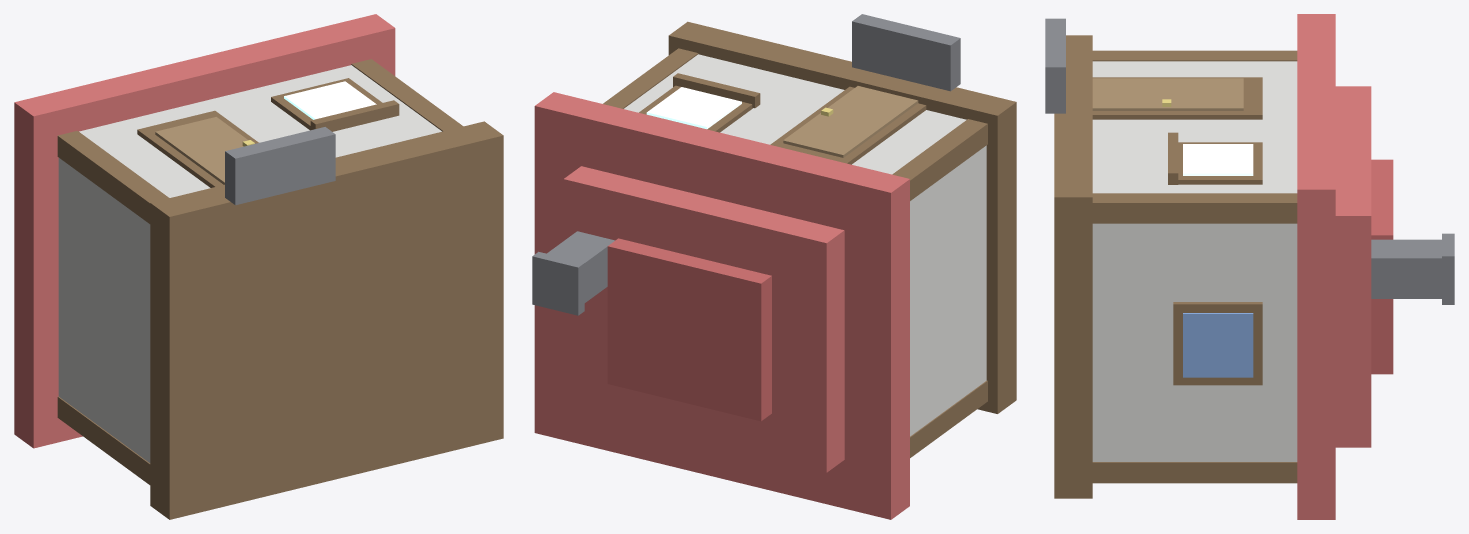
Rendered from house.glb.
3 views of the same model, side by side, from view 1: azimuth 30°, elevation 25°; view 2: azimuth 150°, elevation 25°; view 3: azimuth 270°, elevation 25° (orthographic).
Parts seen in each view (by area): view 1: Floor, Wall, RoofLow, Step, Corner1, Door, Corner3, Win, Corner2, DoorFrame, Sill, WinFrame; view 2: RoofLow, RoofMid, Wall, RoofTop, Floor, Step, Door, Corner1, ChimTop, Win, Chimney, DoorFrame (+4 smaller); view 3: Wall, RoofLow, Floor, RoofMid, Corner2, Door, Win2, Corner4, Chimney, RoofTop, WinSide, DoorFrame (+6 smaller).
Part boxes in pixels (<box>): Floor: <box>150,121,503,519</box>; Wall: <box>58,65,441,462</box>; RoofLow: <box>14,14,395,448</box>; Step: <box>225,127,335,205</box>; Corner1: <box>57,131,169,223</box>; Door: <box>155,117,247,184</box>; Corner3: <box>57,396,150,484</box>; Win: <box>284,81,376,119</box>; Corner2: <box>351,59,463,131</box>; DoorFrame: <box>137,110,258,187</box>; Sill: <box>310,100,399,131</box>; WinFrame: <box>271,78,382,130</box>; RoofLow: <box>534,92,909,519</box>; RoofMid: <box>563,166,844,472</box>; Wall: <box>624,54,986,436</box>; RoofTop: <box>607,238,771,421</box>; Floor: <box>668,21,1016,413</box>; Step: <box>852,14,960,91</box>; Door: <box>783,86,918,157</box>; Corner1: <box>892,119,987,200</box>; ChimTop: <box>532,251,584,315</box>; Win: <box>646,87,741,129</box>; Chimney: <box>547,231,614,302</box>; DoorFrame: <box>770,86,926,164</box>; Wall: <box>1092,61,1297,461</box>; RoofLow: <box>1297,14,1335,519</box>; Floor: <box>1054,35,1092,498</box>; RoofMid: <box>1335,86,1371,447</box>; Corner2: <box>1092,193,1297,223</box>; Door: <box>1092,78,1243,110</box>; Win2: <box>1183,313,1253,377</box>; Corner4: <box>1092,462,1297,483</box>; Chimney: <box>1371,239,1441,298</box>; RoofTop: <box>1371,159,1393,374</box>; WinSide: <box>1173,302,1262,385</box>; DoorFrame: <box>1092,77,1262,119</box>.
Size of the model in its own units: 3.25 by 3.12 by 3.2.
